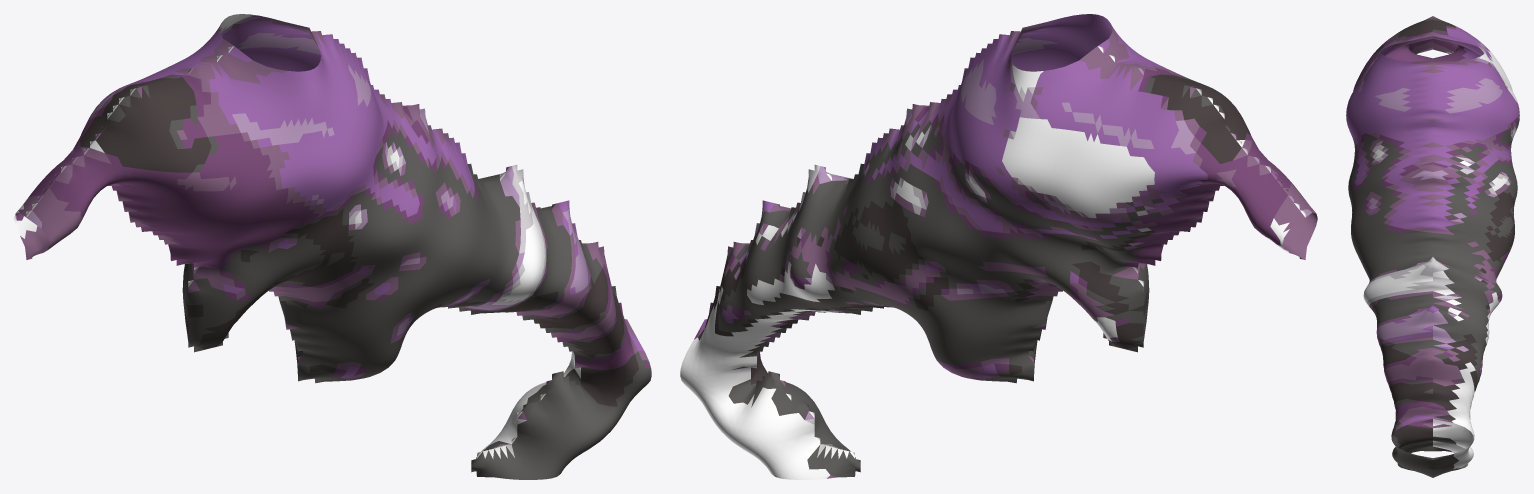
Rendered from komodread.glb.
3 renders of one model, left to right at view 1: azimuth 30°, elevation 25°; view 2: azimuth 150°, elevation 25°; view 3: azimuth 270°, elevation 25°, orthographic. The views are drawn at different scales.
Parts seen in each view (by area): view 1: komodread; view 2: komodread; view 3: komodread.
Boxes of the visible parts, x1,y1,x2,y2 form: komodread: [14, 14, 651, 479]; komodread: [680, 14, 1317, 479]; komodread: [1346, 16, 1519, 477].
Bounding box in the file's own units: 826 × 644 × 303.
